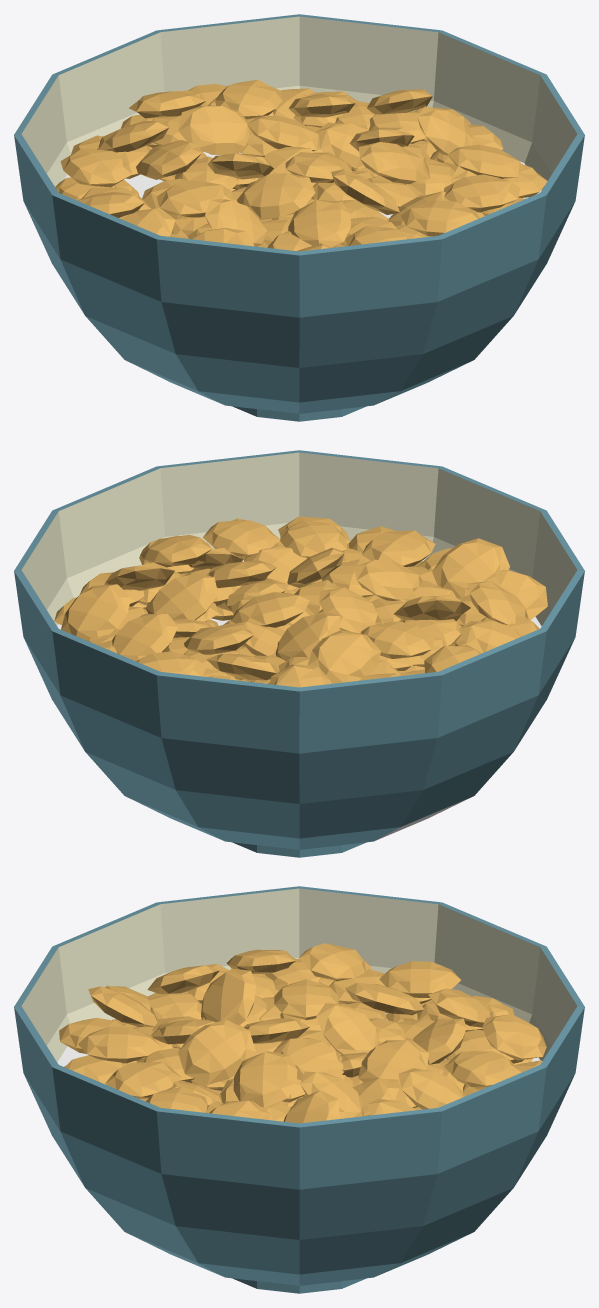
File: 6211a2d3-cb5d-4ced-b6cb-dbe164f2b4a1.glb
3 views of the same model, one above another, from view 1: azimuth 30°, elevation 25°; view 2: azimuth 150°, elevation 25°; view 3: azimuth 270°, elevation 25° (orthographic).
Visible parts, largest first — view 1: Node; view 2: Node; view 3: Node.
Part boxes in pixels (x1,y1,x2,y2): Node: (14, 14, 584, 421); Node: (14, 450, 584, 857); Node: (14, 886, 584, 1293).
Bounding box in the file's own units: 2.05 × 1 × 2.05.
